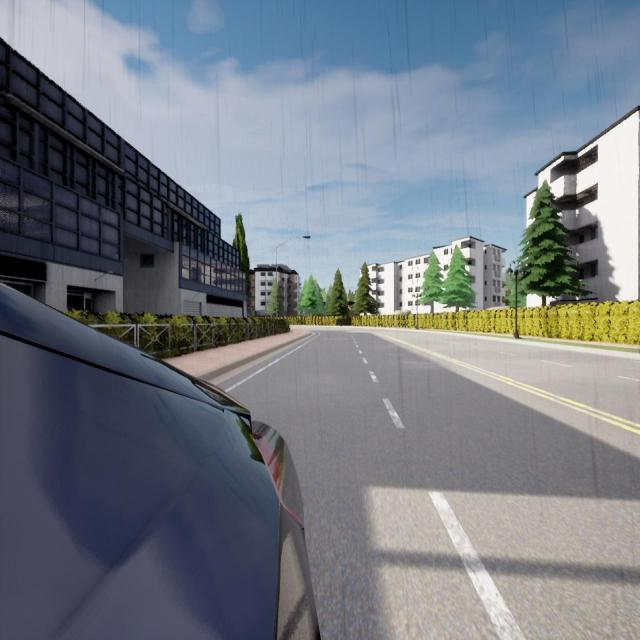Vehicle: (0, 285, 319, 640)
